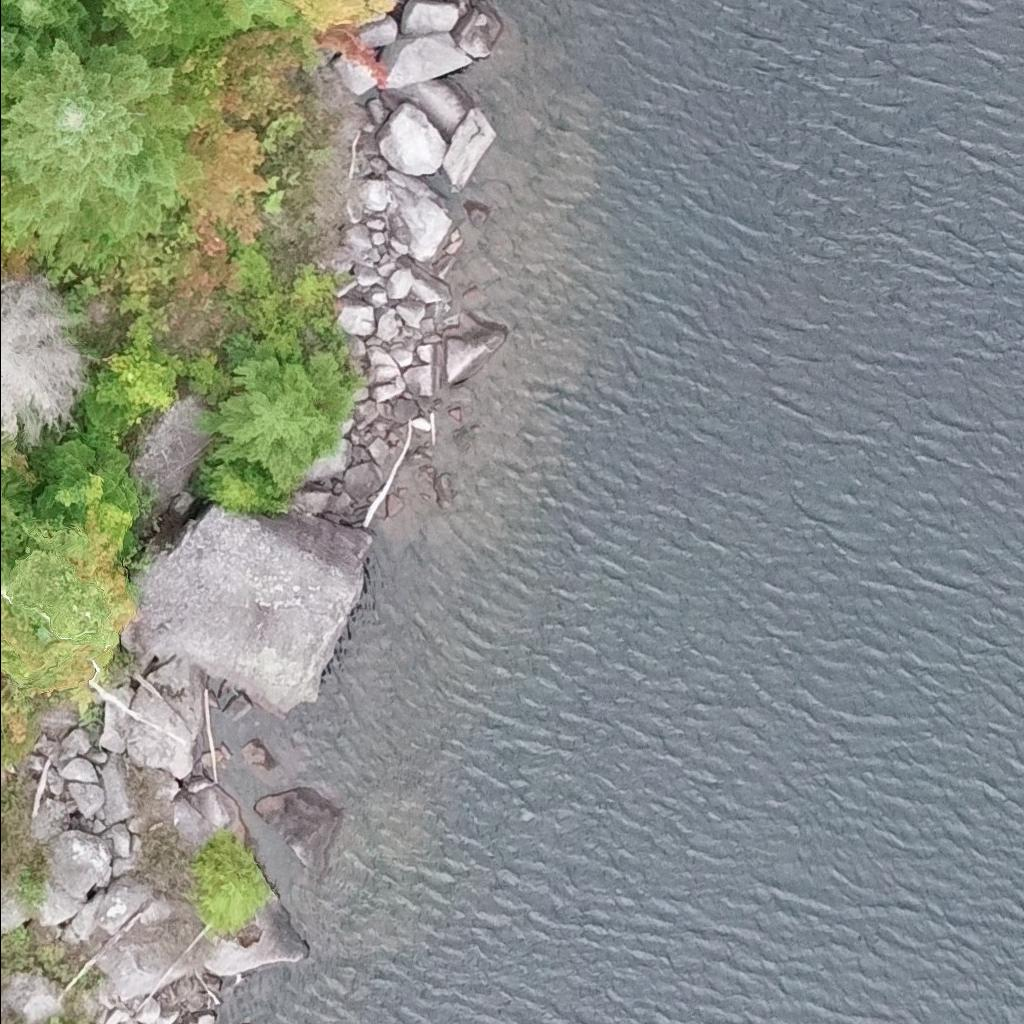crown: (0, 37, 212, 263), (199, 340, 355, 490), (0, 266, 104, 447), (0, 510, 117, 648), (96, 310, 192, 442), (32, 424, 139, 525), (71, 504, 145, 631), (96, 0, 224, 51), (0, 0, 97, 52), (82, 472, 135, 550), (208, 0, 299, 33), (0, 20, 29, 67), (0, 468, 21, 532), (0, 171, 10, 193), (0, 0, 16, 11)
